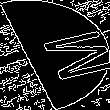M_W: (9, 25, 101, 85)
